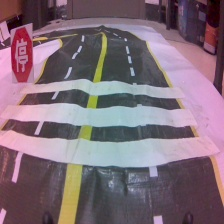stop: (10, 24, 36, 84)
